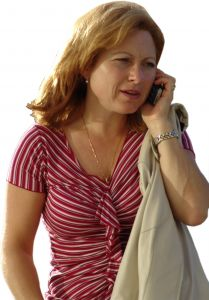phone: (150, 65, 180, 115)
talk: (109, 52, 185, 130)
